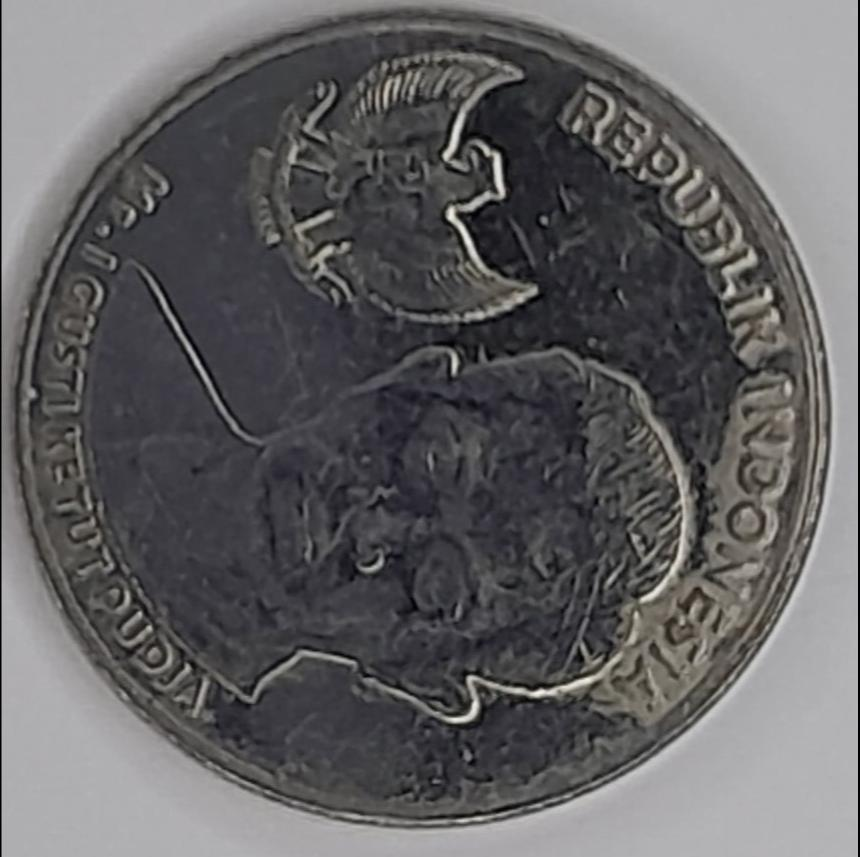coin_1000_e2016: (15, 17, 849, 857)
